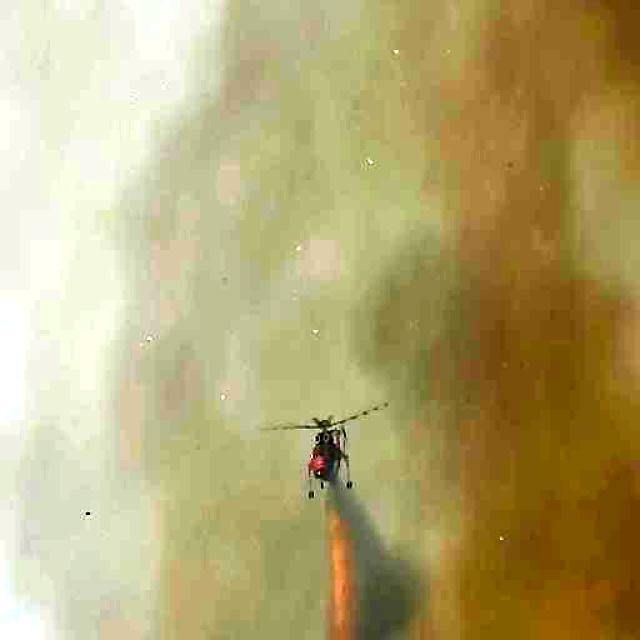drone: (262, 395, 385, 500)
